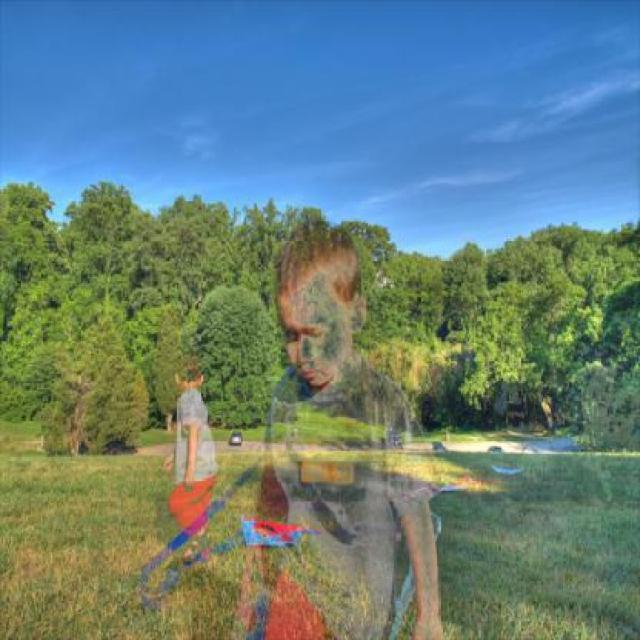Person: (228, 220, 444, 638), (162, 350, 218, 562)
